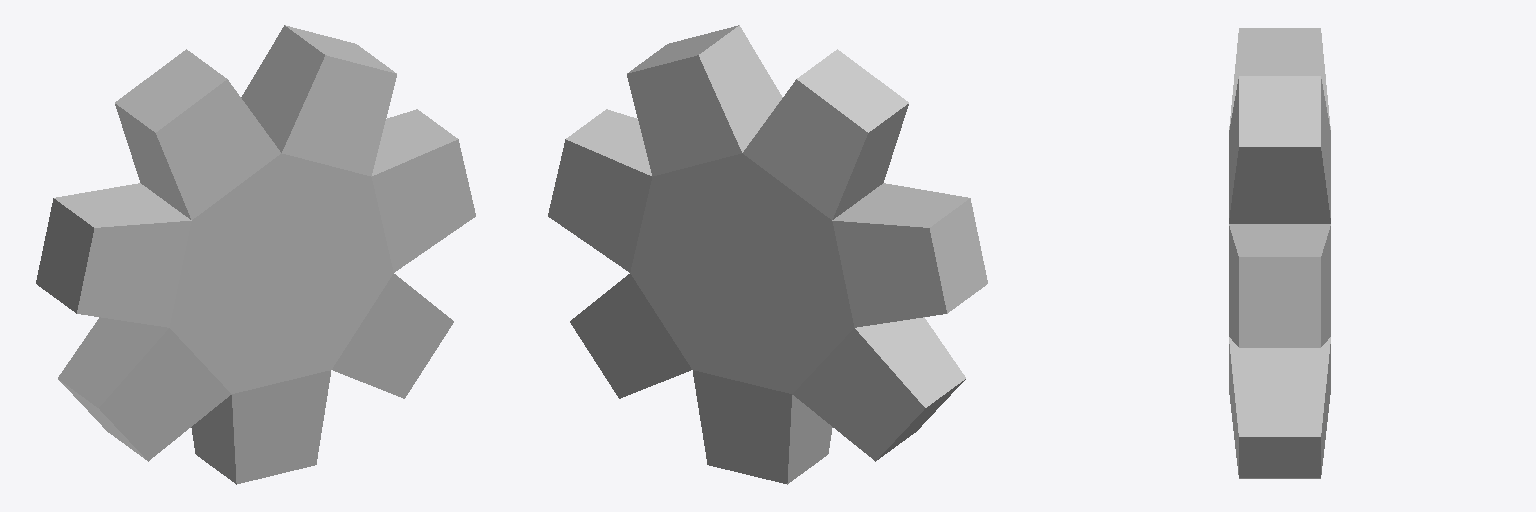
The model's file is gate-star.obj.
3 views of the same model, side by side, from view 1: azimuth 30°, elevation 25°; view 2: azimuth 150°, elevation 25°; view 3: azimuth 270°, elevation 25° (orthographic).
Parts seen in each view (by area): view 1: Circle; view 2: Circle; view 3: Circle.
Part boxes in pixels (bbox=[...]): Circle: bbox=[36, 25, 475, 484]; Circle: bbox=[548, 25, 987, 484]; Circle: bbox=[1229, 28, 1330, 478].
Bounding box in the file's own units: 0.8671 × 0.8454 × 0.1929.